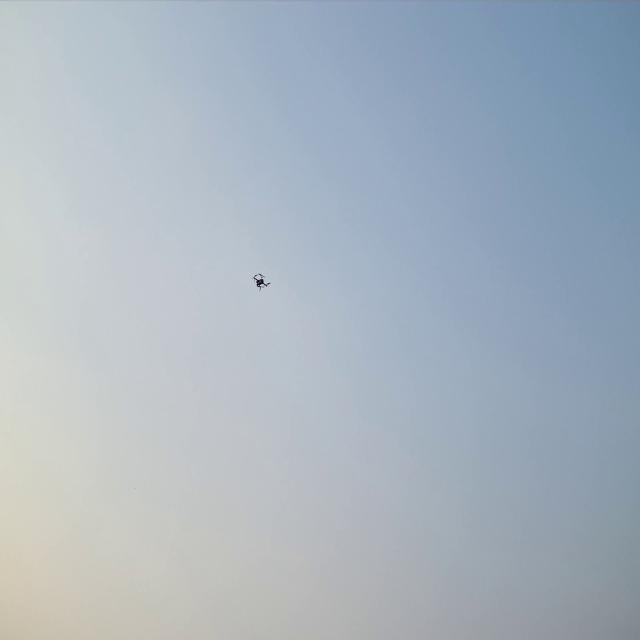UAV: (250, 272, 272, 294)
